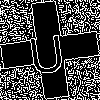U: (25, 25, 67, 76)
